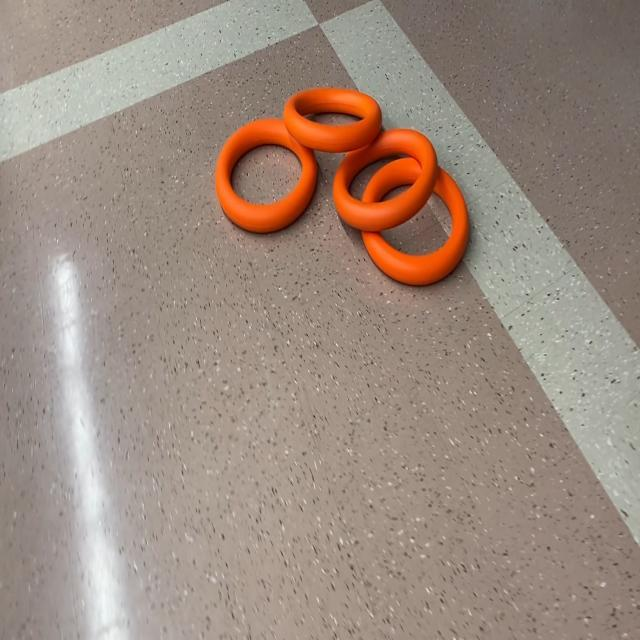note: (361, 154, 471, 292), (215, 115, 319, 234), (330, 126, 440, 232), (283, 82, 383, 147)
